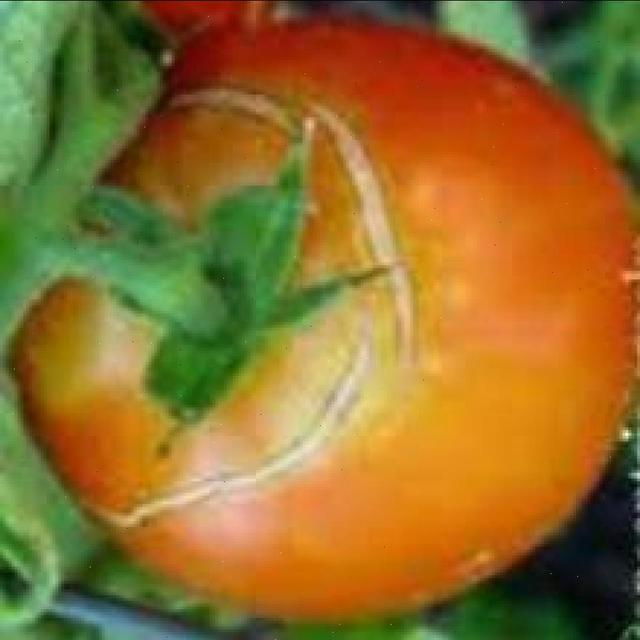Cracking Fruit: (72, 75, 236, 297)
